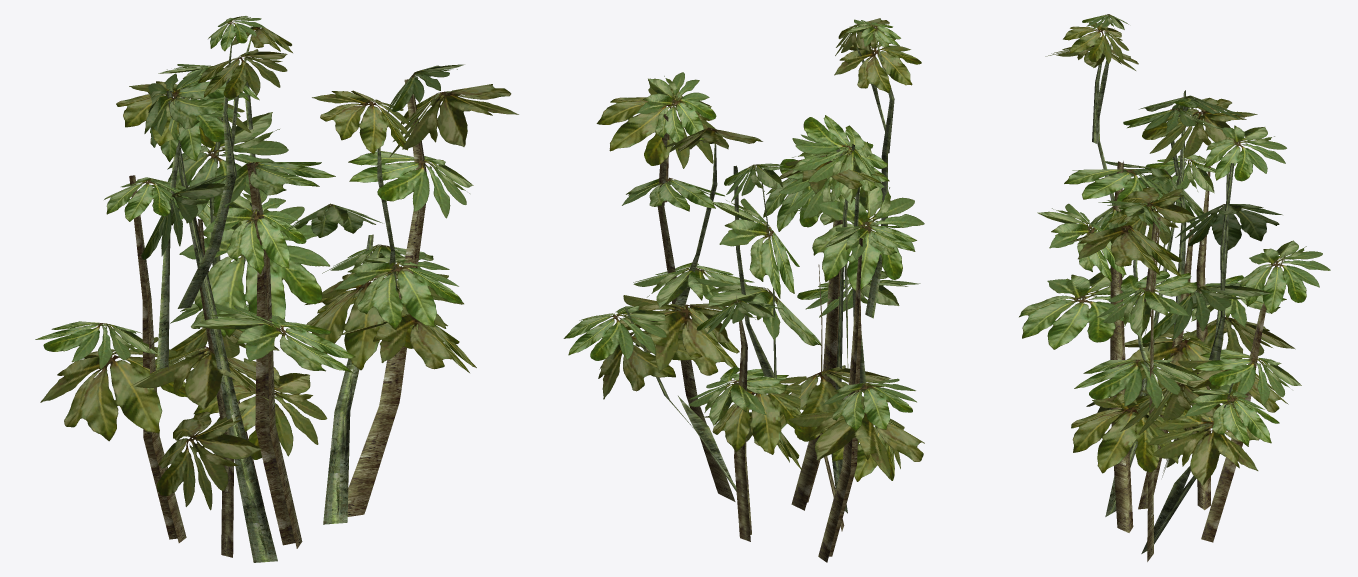
The model's file is S_Tree_Green059_017.FBX.
The picture shows the model from 3 angles, left to right: view 1: azimuth 30°, elevation 25°; view 2: azimuth 150°, elevation 25°; view 3: azimuth 270°, elevation 25°; orthographic projection. The views are drawn at different scales.
Parts seen in each view (by area): view 1: S_Tree_Green059_017; view 2: S_Tree_Green059_017; view 3: S_Tree_Green059_017.
Part boxes in pixels (left/top/right/bottom): S_Tree_Green059_017: left=35, top=16, right=518, bottom=562; S_Tree_Green059_017: left=563, top=18, right=924, bottom=562; S_Tree_Green059_017: left=1019, top=14, right=1330, bottom=561.
Size of the model in its own units: 465 by 550 by 362.
